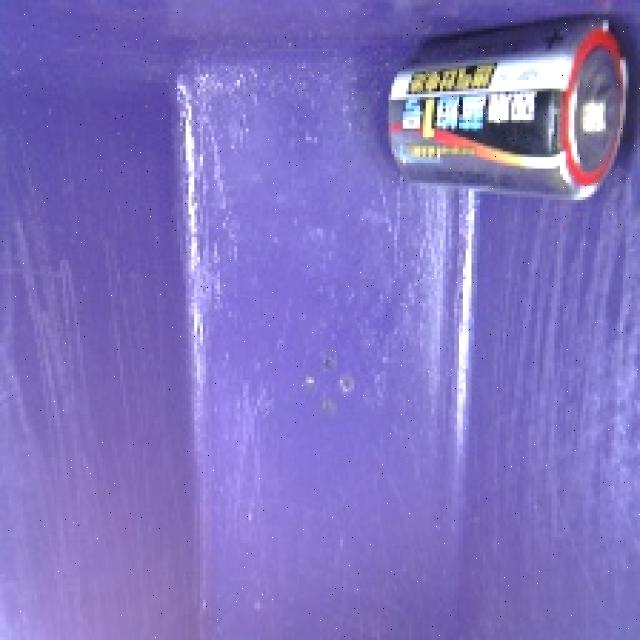battery: (373, 13, 633, 221)
